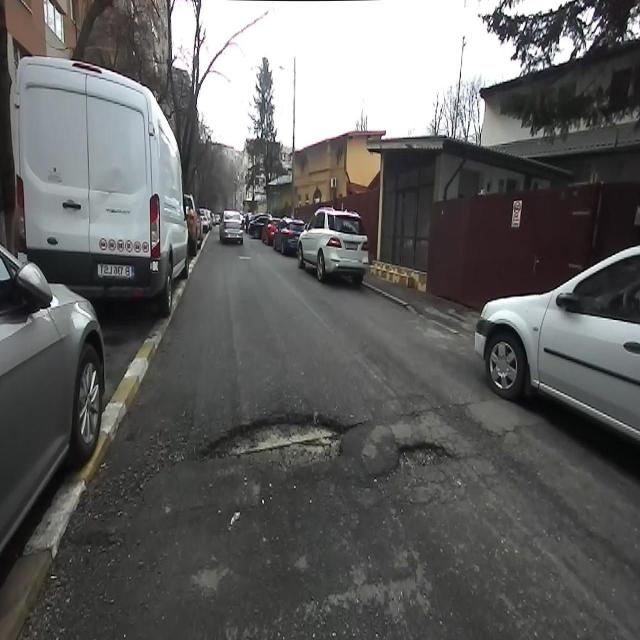Pothole: (227, 389, 411, 502)
